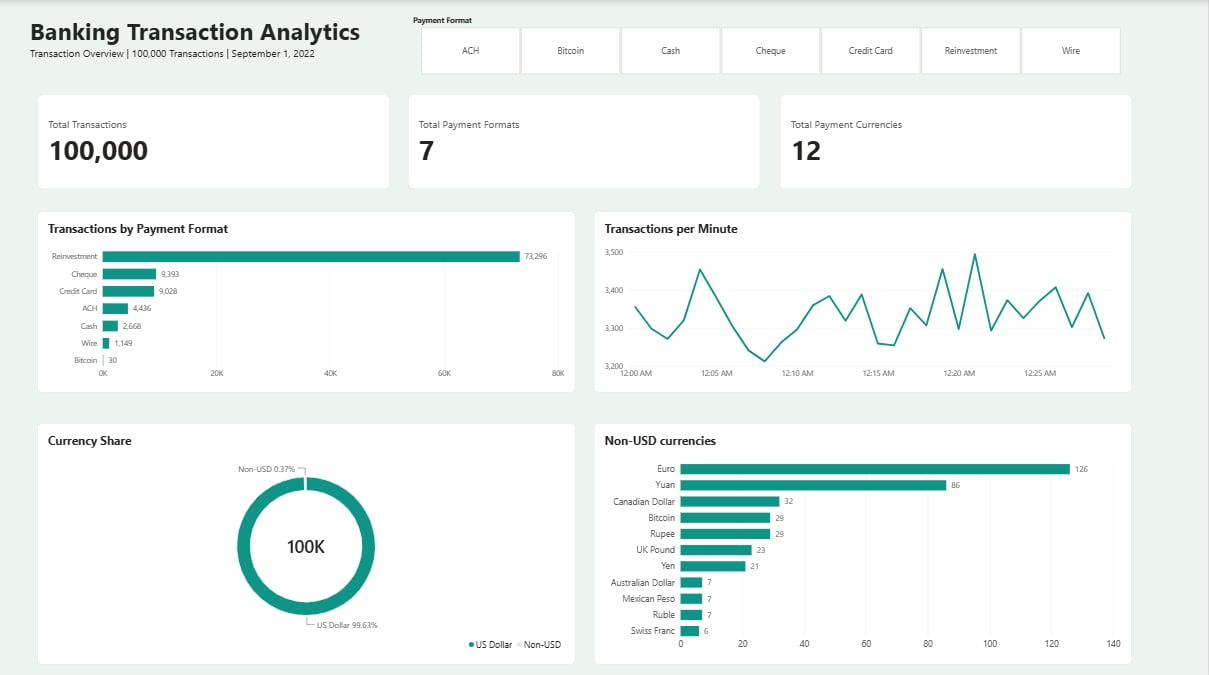

Layout of this report page (visuals, bound fields, positions):
{"tool":"powerbi","page":{"name":"Transaction Overview","canvas":[1920,1080],"ordinal":0},"visuals":[{"type":"cardVisual","fields":{"Data":["Transactions.Total Transactions"]},"box":[60,150,560,150],"z":0},{"type":"cardVisual","fields":{"Data":["Transactions.Total Payment Formats"]},"box":[650,150,560,150],"z":1000},{"type":"cardVisual","fields":{"Data":["Transactions.Total Payment Currencies"]},"box":[1240,150,560,150],"z":2000},{"type":"textbox","box":[48,24,600,96],"z":3000},{"type":"clusteredBarChart","title":"Transactions by Payment Format","fields":{"Category":["Transactions.PaymentFormat"],"Y":["Transactions.Total Transactions"]},"box":[60,336,855,288],"z":4000},{"type":"lineChart","title":"Transactions per Minute","fields":{"Category":["Transactions.TransactionTimestamp"],"Y":["Transactions.Total Transactions"]},"box":[945,336,855,288],"z":5000},{"type":"slicer","fields":{"Values":["Transactions.PaymentFormat"]},"box":[648,24,1152,96],"z":6000},{"type":"donutChart","title":"Currency Share","fields":{"Category":["Transactions.CurrencyGroup"],"Y":["Transactions.Total Transactions"]},"box":[60,672,855,384],"z":7000},{"type":"clusteredBarChart","title":"Non-USD currencies","fields":{"Category":["Transactions.PaymentCurrency"],"Y":["Transactions.Total Transactions"]},"box":[945,672,855,384],"z":8000}]}

Visuals, with their boxes in screenshot pixels (x1, y1, x2, y2), scaled from the page's 1920x1080 canvas onto the 1209x675 screenshot:
cardVisual - Transactions.Total Transactions: pyautogui.locateOnScreen(38, 94, 390, 188)
cardVisual - Transactions.Total Payment Formats: pyautogui.locateOnScreen(409, 94, 762, 188)
cardVisual - Transactions.Total Payment Currencies: pyautogui.locateOnScreen(781, 94, 1133, 188)
textbox: pyautogui.locateOnScreen(30, 15, 408, 75)
"Transactions by Payment Format" clusteredBarChart: pyautogui.locateOnScreen(38, 210, 576, 390)
"Transactions per Minute" lineChart: pyautogui.locateOnScreen(595, 210, 1133, 390)
slicer - Transactions.PaymentFormat: pyautogui.locateOnScreen(408, 15, 1133, 75)
"Currency Share" donutChart: pyautogui.locateOnScreen(38, 420, 576, 660)
"Non-USD currencies" clusteredBarChart: pyautogui.locateOnScreen(595, 420, 1133, 660)
